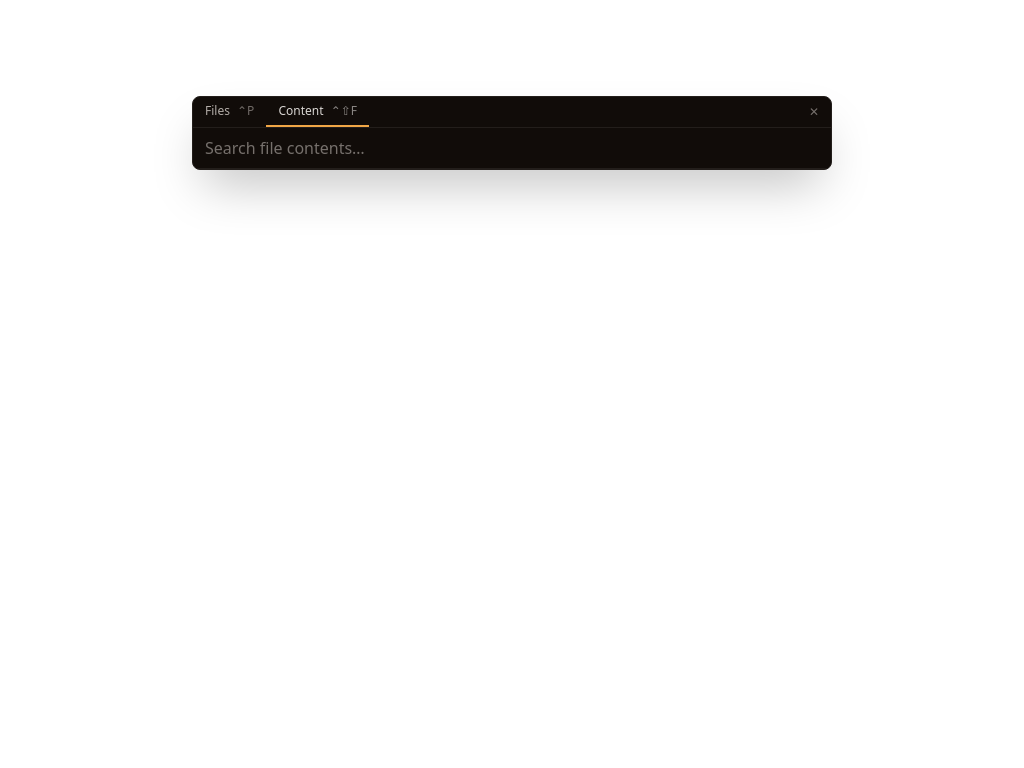
Test: SearchModal › shows the install-rg banner when content mode reports unavailable
Type "foo" into the field with test id "search-input" at point(512, 148), box x1=193 y1=128 x2=831 y2=169
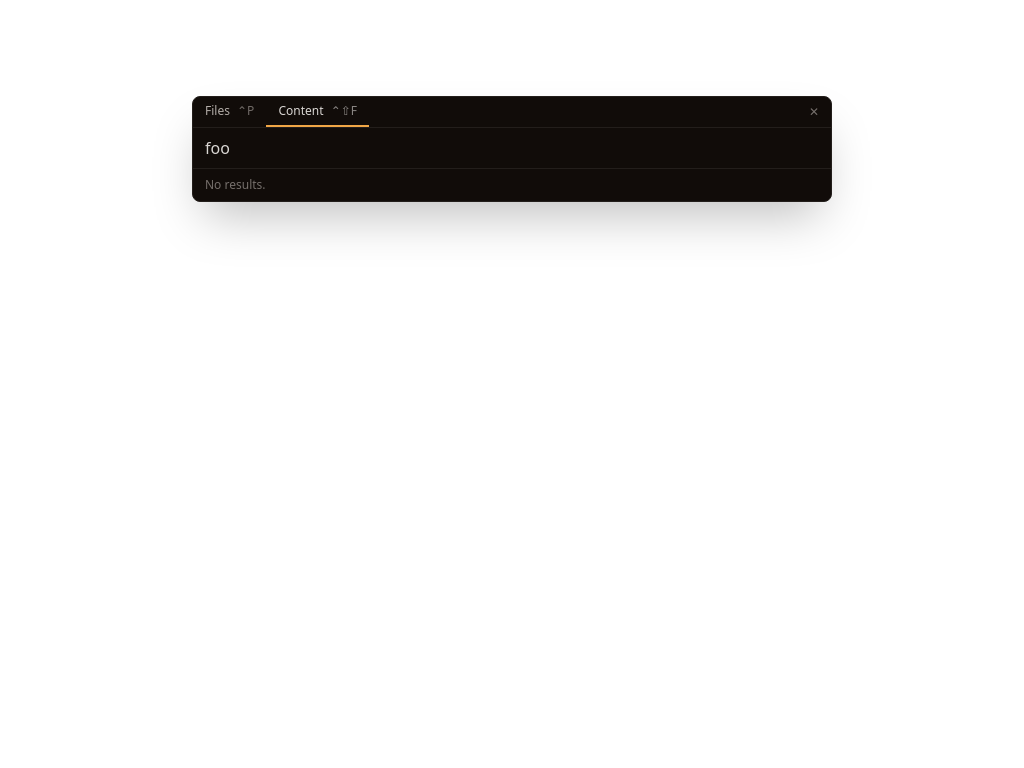
Submit the form with test id "search-input", box x1=193 y1=128 x2=831 y2=169
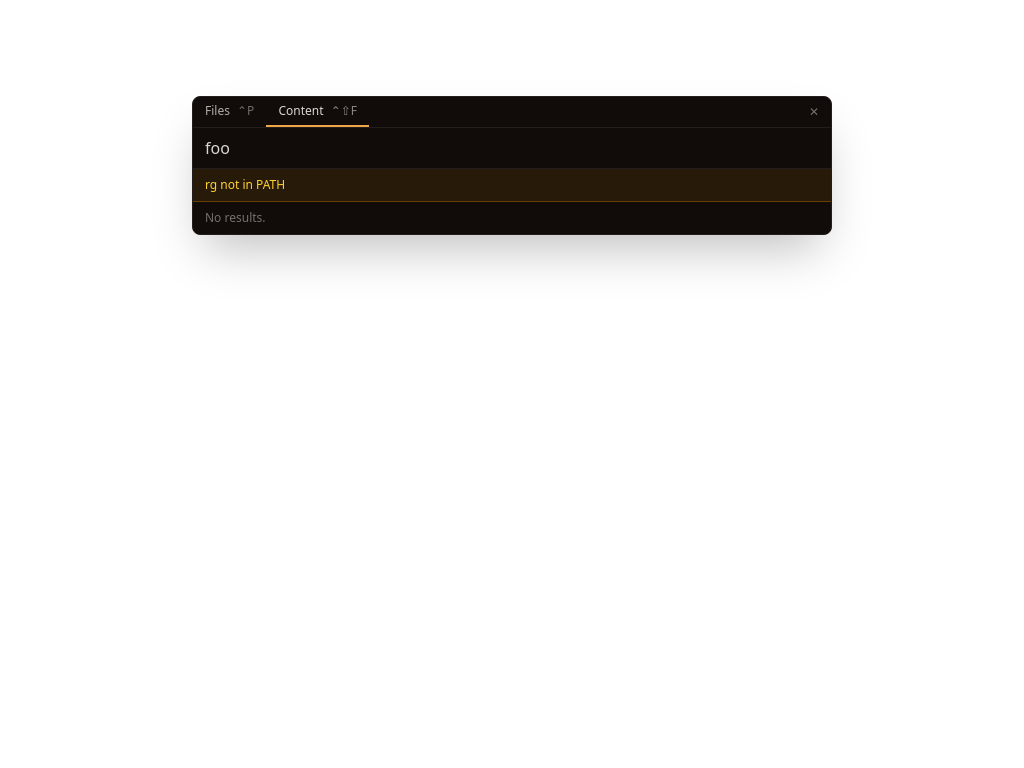
Check: the text with test id "search-unavailable" reads "rg not in PATH", box x1=205 y1=176 x2=285 y2=193
